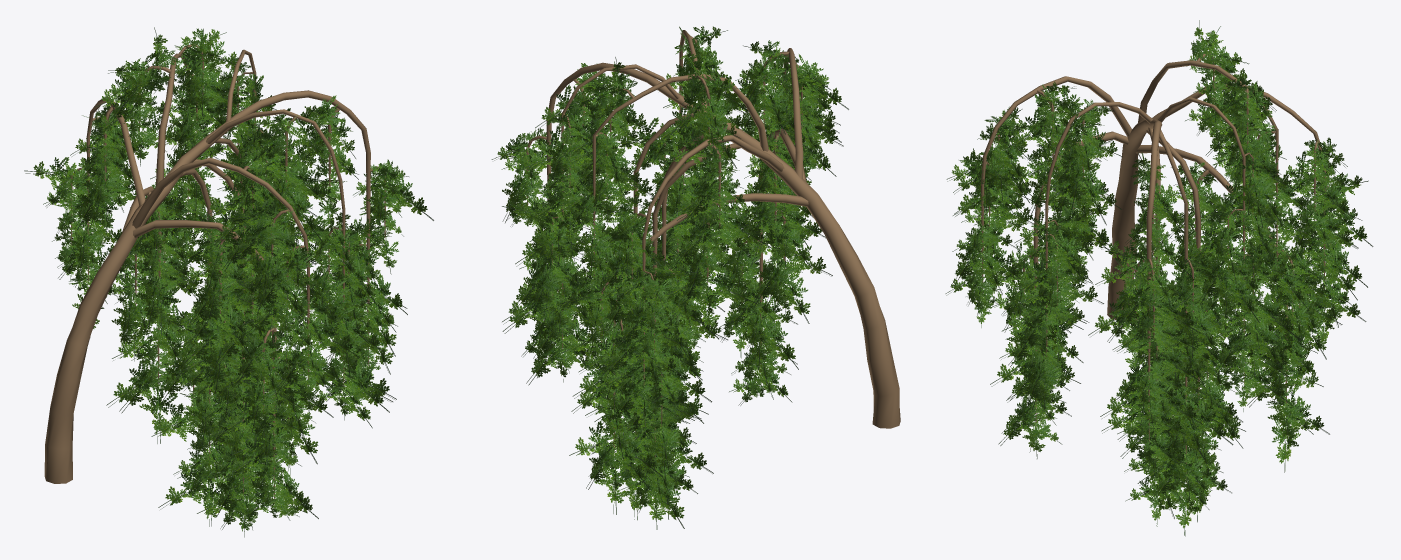
File: willow-lod0.glb
3 views of the same model, side by side, from view 1: azimuth 30°, elevation 25°; view 2: azimuth 150°, elevation 25°; view 3: azimuth 270°, elevation 25° (orthographic). The views are drawn at different scales.
Parts seen in each view (by area): view 1: leaf cards, branches; view 2: leaf cards, branches; view 3: leaf cards, branches.
Boxes of the visible parts, <box> form: leaf cards: <box>24,27,433,537</box>; branches: <box>44,44,385,502</box>; leaf cards: <box>491,26,848,529</box>; branches: <box>526,30,900,479</box>; leaf cards: <box>945,20,1373,536</box>; branches: <box>981,53,1331,483</box>.
Bounding box in the file's own units: 7.35 × 9 × 7.57.
Materials: 2 (1 with a texture image).
